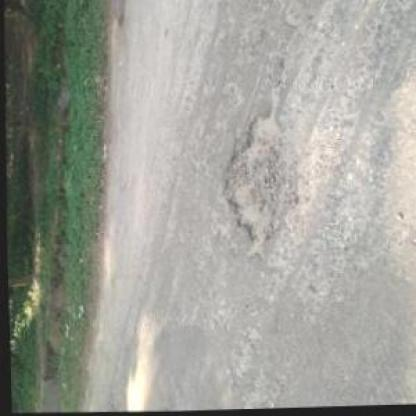pothole: (215, 101, 299, 262)
